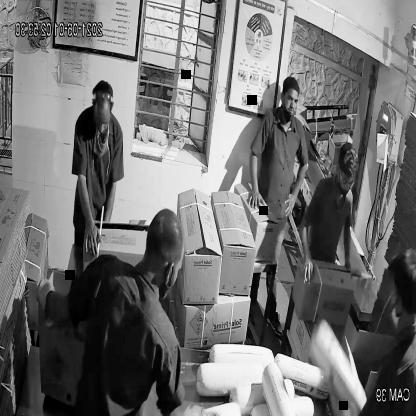goggles: (336, 164, 357, 194)
no_goggles: (280, 90, 304, 111)
